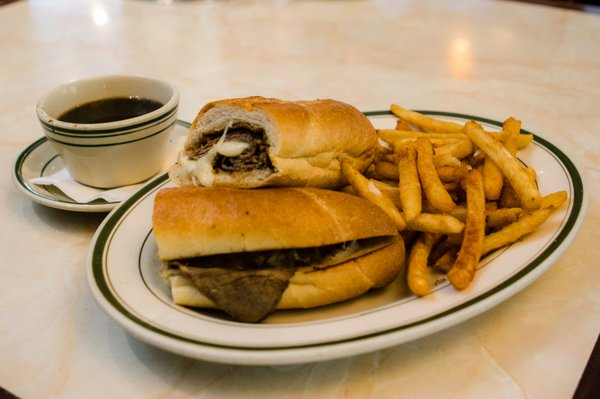pizza: (35, 73, 189, 190)
